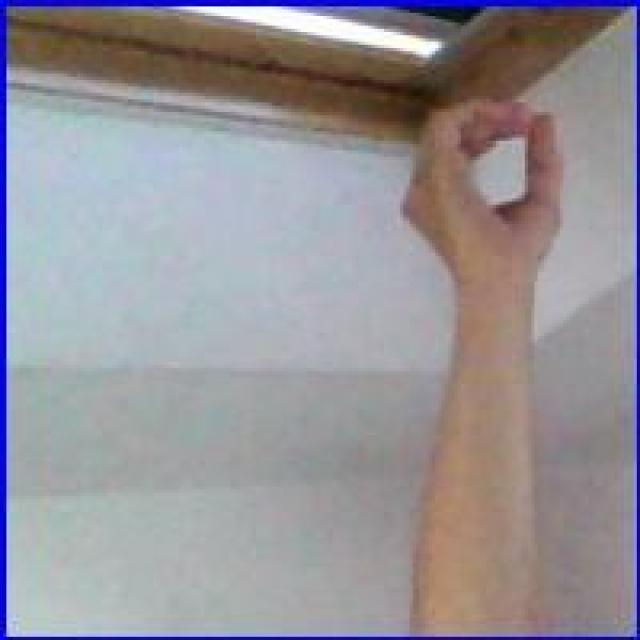O: (390, 94, 570, 280)
